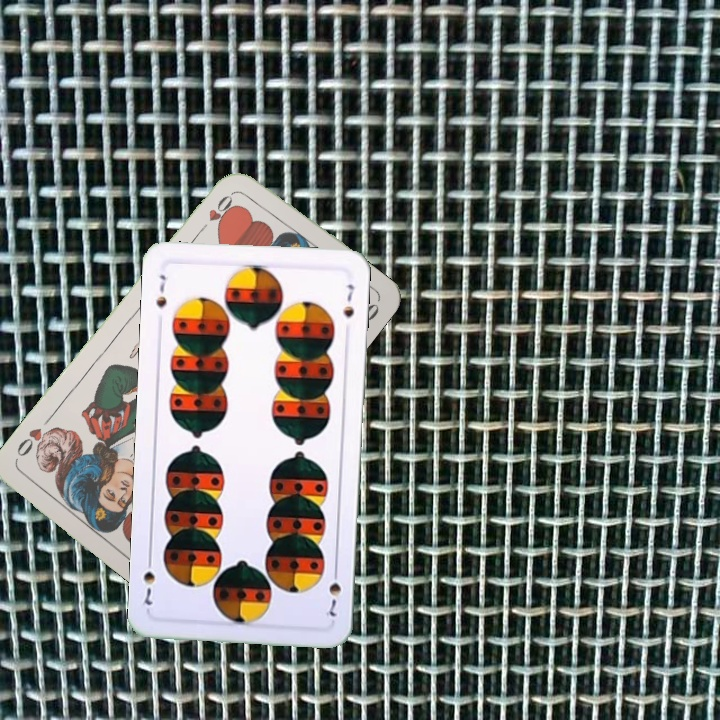HO: (193, 188, 237, 237)
S7: (321, 563, 344, 619), (151, 271, 170, 310)
